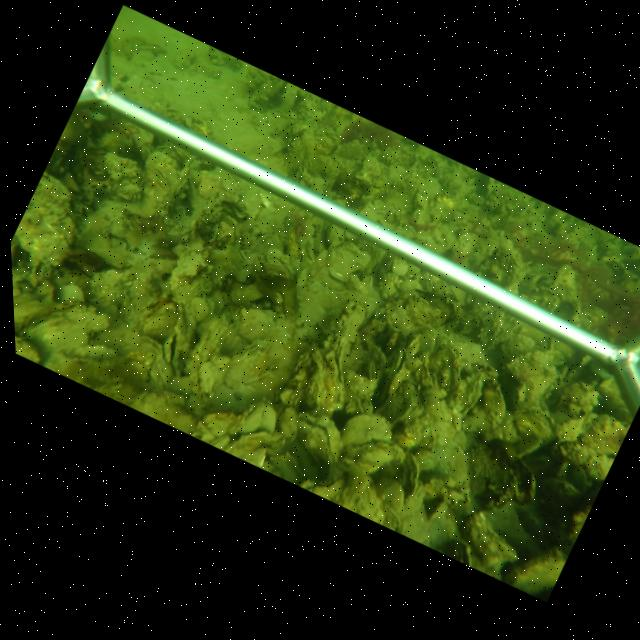Oyster-Closed: (298, 412, 343, 467), (513, 405, 560, 457), (324, 326, 348, 409), (431, 342, 463, 402), (344, 411, 394, 447), (382, 345, 409, 397), (302, 475, 347, 501), (399, 448, 420, 501), (413, 321, 436, 353)
Oyster-Indeterminate: (14, 172, 76, 274), (462, 509, 518, 570), (505, 552, 566, 594), (464, 377, 507, 436)
Oyster-Open: (162, 332, 184, 375)
